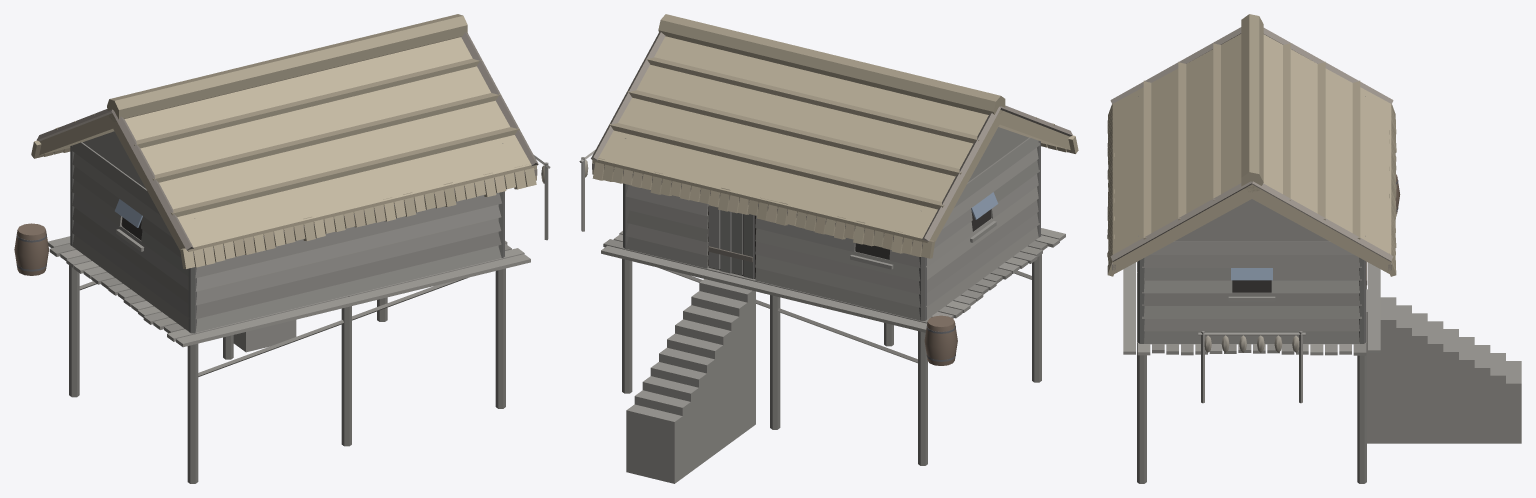
Rendered from house_3_0.gltf.
3 renders of one model, left to right at view 1: azimuth 30°, elevation 25°; view 2: azimuth 150°, elevation 25°; view 3: azimuth 270°, elevation 25°, orthographic. The views are drawn at different scales.
Parts seen in each view (by area): view 1: Body; view 2: Body; view 3: Body.
Part boxes in pixels (x1,y1,x2,y2): Body: (14,14,550,483); Body: (579,14,1078,483); Body: (1107,14,1521,483).
Size of the model in its own units: 9.52 by 7.2 by 8.46.
